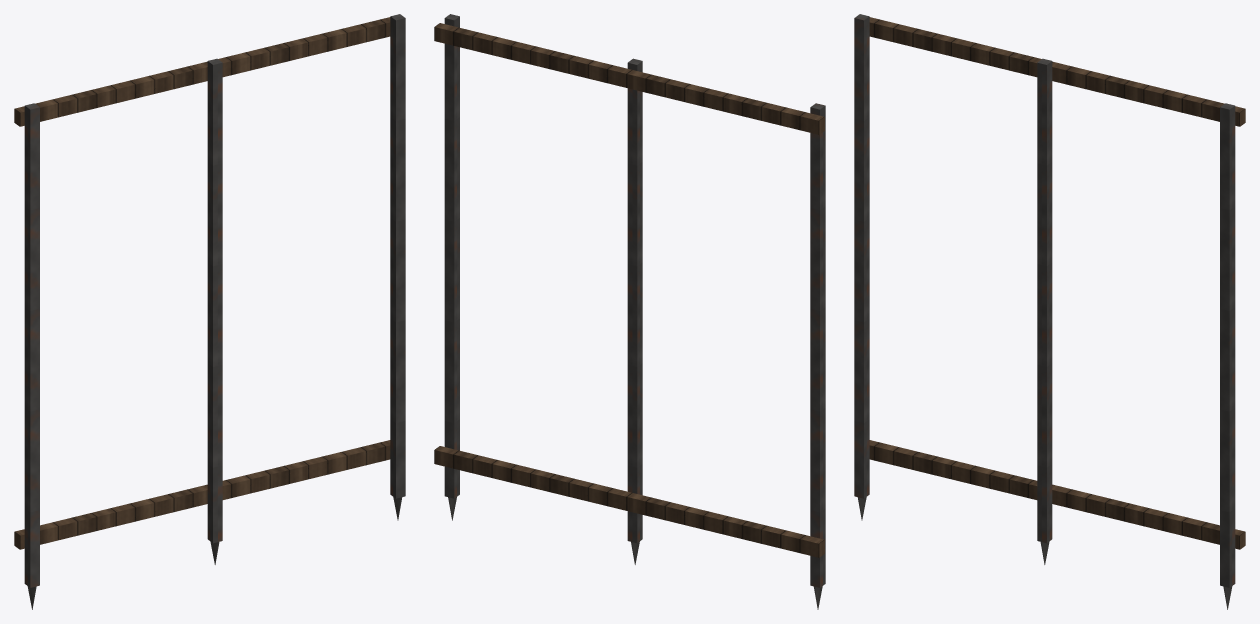
Rendered from Portcullis_1_LOD2.gltf.
3 renders of one model, left to right at view 1: azimuth 30°, elevation 25°; view 2: azimuth 150°, elevation 25°; view 3: azimuth 330°, elevation 25°, orthographic.
Visible parts, largest first — view 1: Portcullis_1_LOD2; view 2: Portcullis_1_LOD2; view 3: Portcullis_1_LOD2.
Boxes of the visible parts, bbox=[...] form: Portcullis_1_LOD2: bbox=[14, 14, 405, 609]; Portcullis_1_LOD2: bbox=[434, 14, 825, 609]; Portcullis_1_LOD2: bbox=[854, 14, 1245, 609].
Bounding box in the file's own units: 4 × 5 × 0.2.
Materials: 2 (2 with a texture image).
